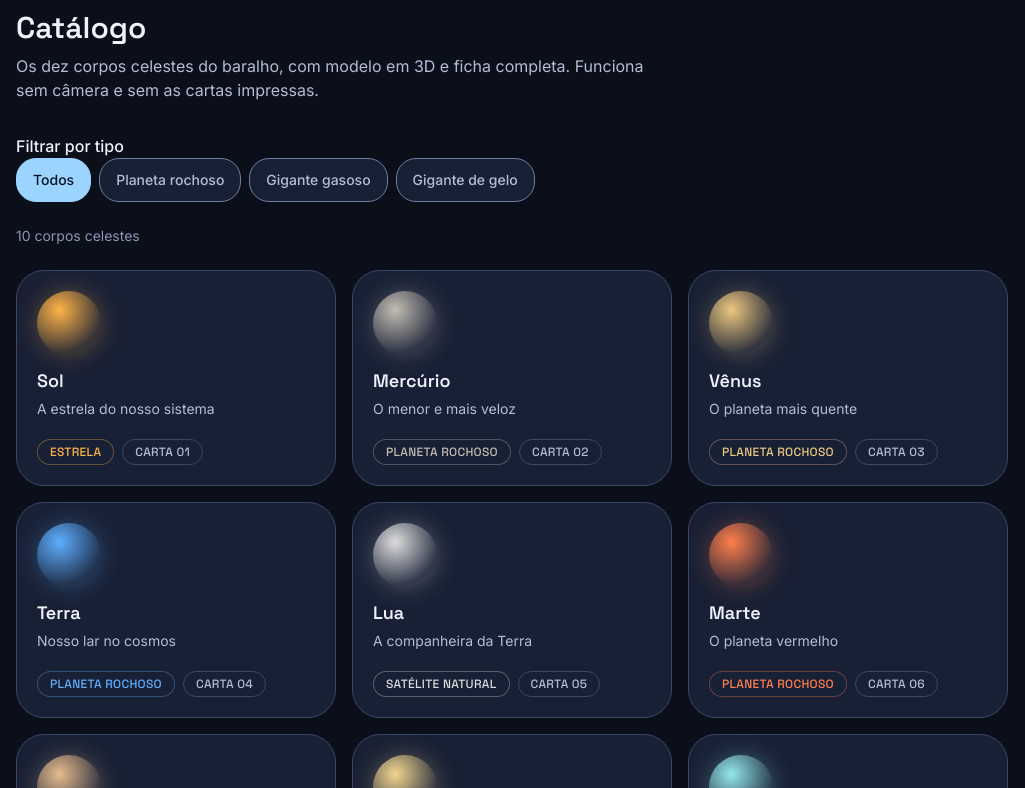
Scenario: CatalogPage › anuncia quantos resultados sobraram após filtrar
Click the radio button labelled "Gigante de gelo" at [465, 180], box [396,158,535,202]
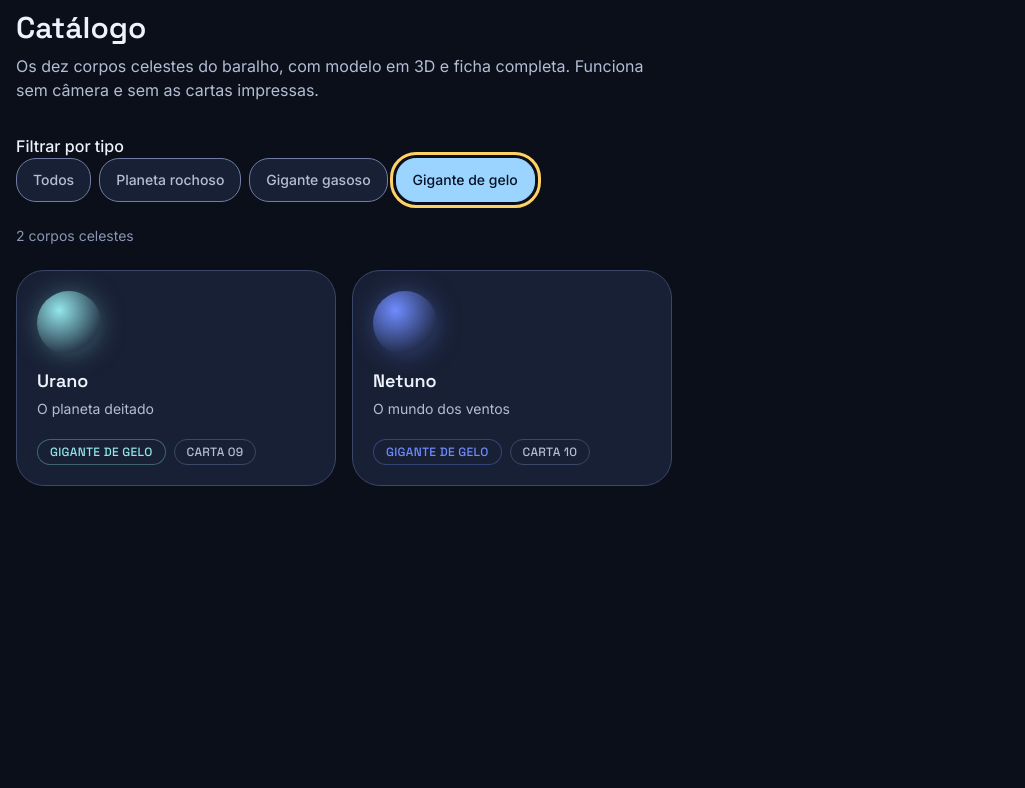
Expected: the text "2 corpos celestes" is shown, [16,227,134,244]
